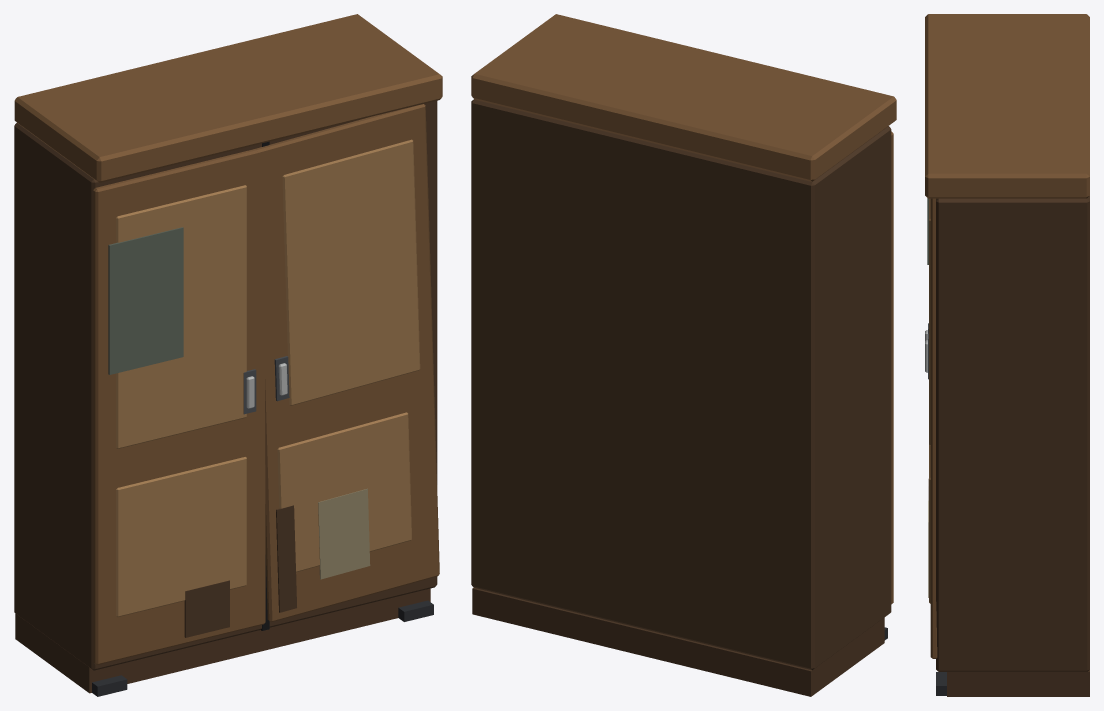
File: furn_wardrobe.fbx
The picture shows the model from 3 angles, left to right: view 1: azimuth 30°, elevation 25°; view 2: azimuth 150°, elevation 25°; view 3: azimuth 270°, elevation 25°; orthographic projection. The views are drawn at different scales.
Parts seen in each view (by area): view 1: furn_wardrobe, Door_L, Door_R; view 2: furn_wardrobe, Door_L; view 3: furn_wardrobe, Door_R.
Boxes of the visible parts, bbox=[...] form: furn_wardrobe: bbox=[14, 14, 442, 696]; Door_L: bbox=[93, 149, 265, 664]; Door_R: bbox=[255, 104, 439, 622]; furn_wardrobe: bbox=[471, 14, 896, 696]; Door_L: bbox=[891, 131, 893, 604]; furn_wardrobe: bbox=[925, 14, 1089, 696]; Door_R: bbox=[925, 198, 937, 658].
Bounding box in the file's own units: 1.4 × 2.1 × 0.6.
